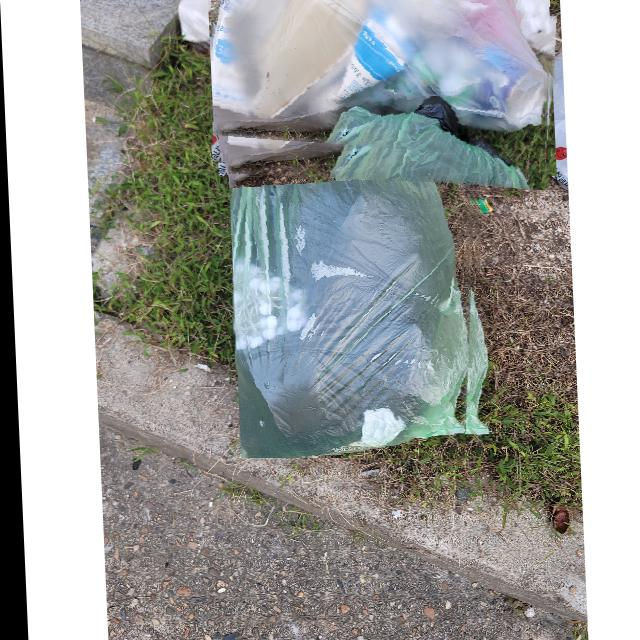general_trashbag: (228, 124, 469, 457)
other_trashbag: (211, 0, 548, 141)
